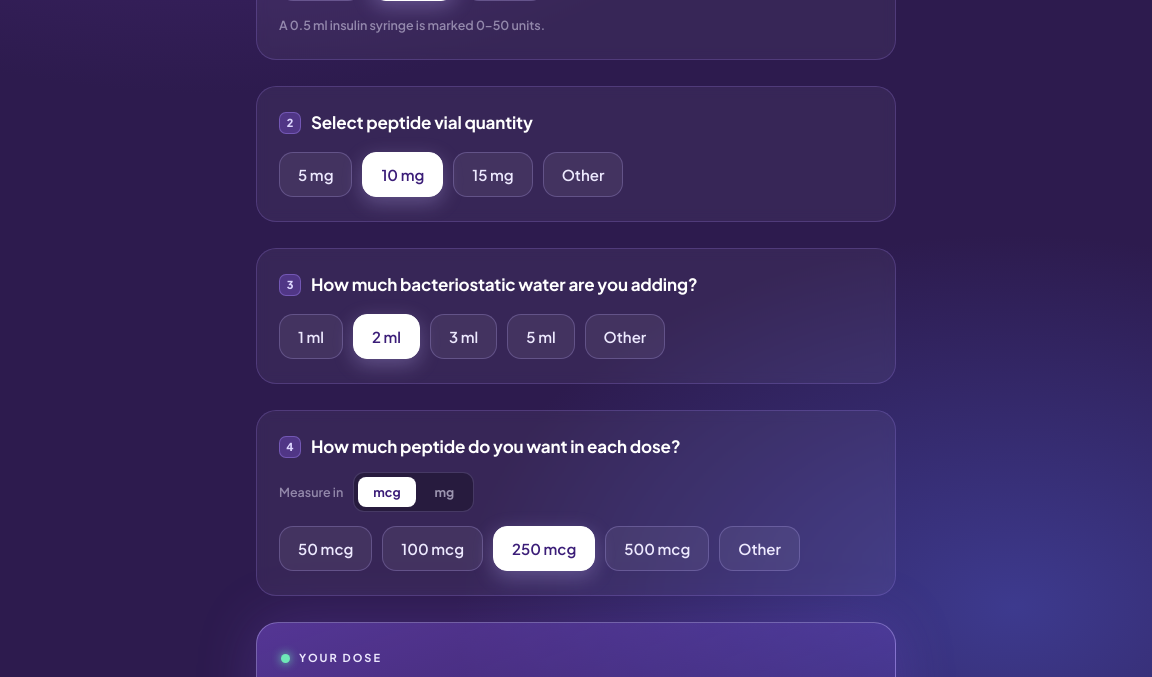
PeptideCalculator — custom amounts › prompts instead of showing zeroes while the field is empty
The width and height of the screenshot is (1152, 677).
(page scrolled)
Click the radio button with aria-label "other water volume": (625, 337) [585,314,665,359]
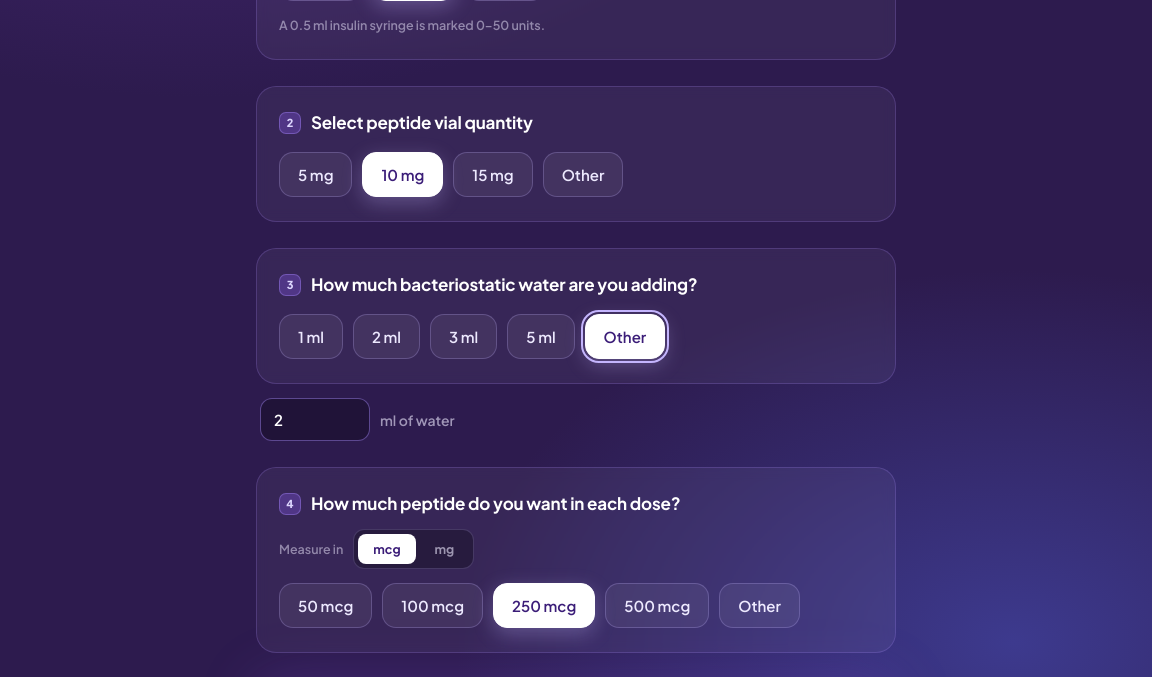
Clear the number field labelled "ml of water": (315, 420) [260,398,370,441]
(page scrolled)
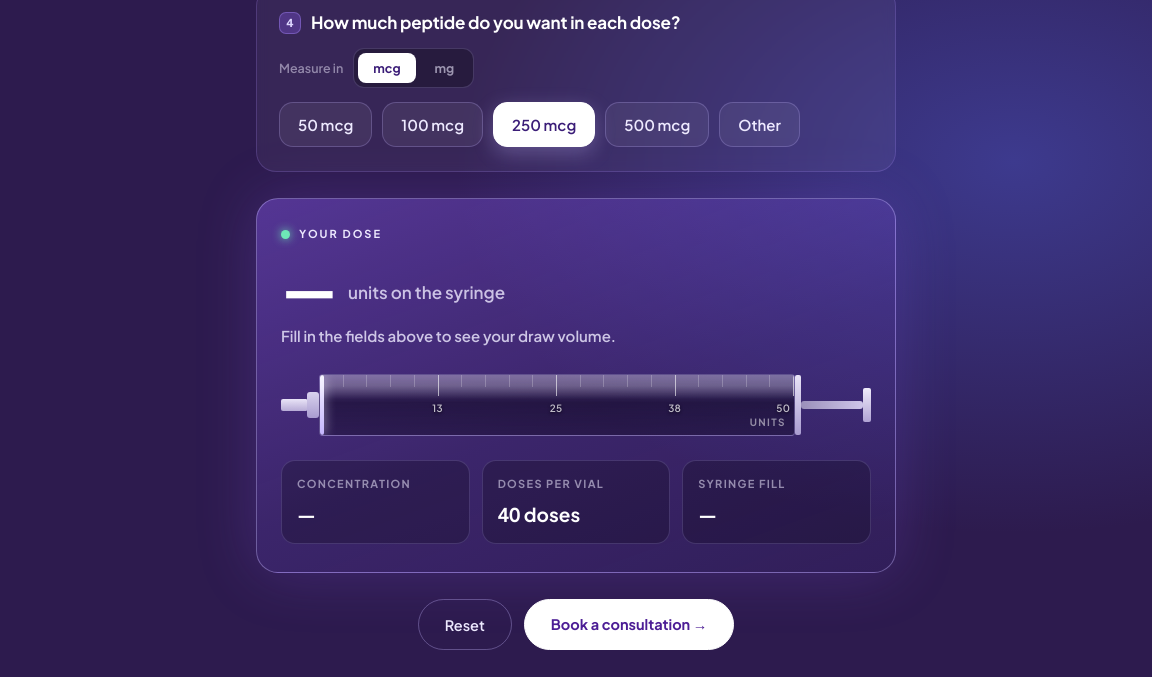
Result: the text "—" next to "units on the syringe" is shown at [281,252,336,322]
Result: the text "Fill in the fields above to see your draw volume." is shown at [281,326,616,345]
